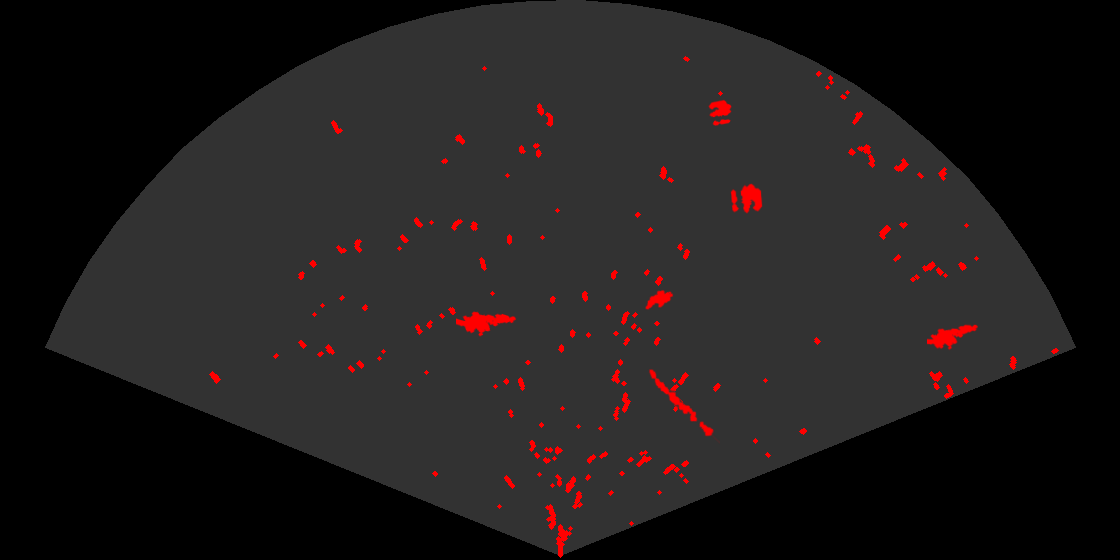AUV: (644, 288, 675, 311)
ball: (729, 182, 764, 215), (707, 98, 733, 127)
chain: (647, 367, 720, 445)
frogman: (456, 310, 518, 338), (927, 323, 978, 352)
